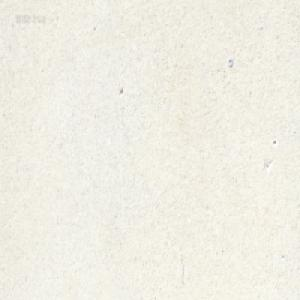Washer: (227, 57, 233, 67)
